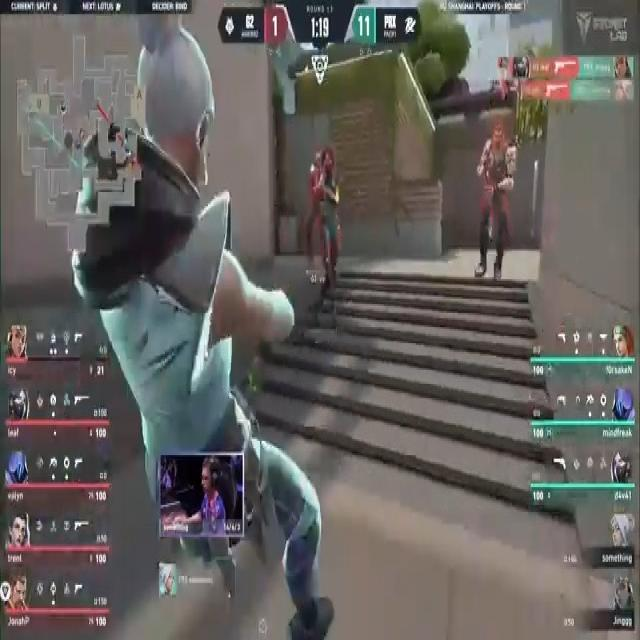enemy: (472, 116, 517, 280), (319, 151, 347, 320), (309, 147, 320, 256)
